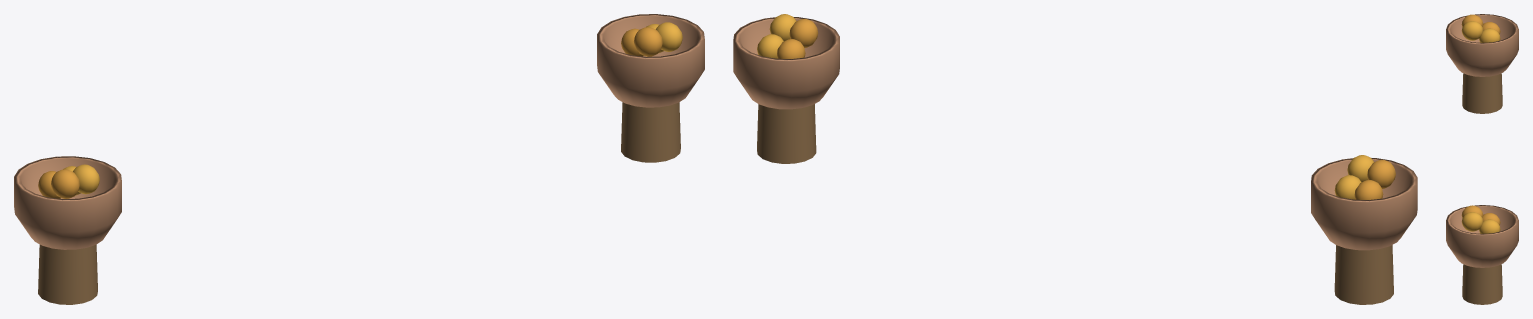
The model's file is fixture-food-v01.glb.
The picture shows the model from 3 angles, left to right: view 1: azimuth 30°, elevation 25°; view 2: azimuth 150°, elevation 25°; view 3: azimuth 270°, elevation 25°; orthographic projection. The views are drawn at different scales.
Parts seen in each view (by area): view 1: bowl (×2), post (×2), portion-2 (×2), portion-3 (×2); view 2: bowl (×2), post (×2), portion-2 (×2), portion-3 (×2), portion-0 (×2), portion-1 (×2); view 3: bowl (×2), post (×2), portion-3 (×2), portion-1 (×2), portion-2 (×2), portion-0 (×2).
Part boxes in pixels (left/top/right/bottom): bowl (×2): left=14, top=14, right=704, bottom=249; post (×2): left=38, top=102, right=680, bottom=304; portion-2 (×2): left=51, top=27, right=662, bottom=198; portion-3 (×2): left=73, top=22, right=682, bottom=194; bowl (×2): left=733, top=17, right=1417, bottom=250; post (×2): left=757, top=104, right=1393, bottom=304; portion-2 (×2): left=789, top=18, right=1395, bottom=188; portion-3 (×2): left=769, top=14, right=1373, bottom=181; portion-0 (×2): left=777, top=39, right=1383, bottom=199; portion-1 (×2): left=757, top=34, right=1361, bottom=199; bowl (×2): left=1446, top=14, right=1518, bottom=267; post (×2): left=1462, top=73, right=1502, bottom=304; portion-3 (×2): left=1461, top=21, right=1483, bottom=231; portion-1 (×2): left=1479, top=28, right=1500, bottom=233; portion-2 (×2): left=1461, top=14, right=1483, bottom=218; portion-0 (×2): left=1482, top=22, right=1500, bottom=225.
Bounding box in the file's own units: 1.16 × 0.2121 × 0.1612.
